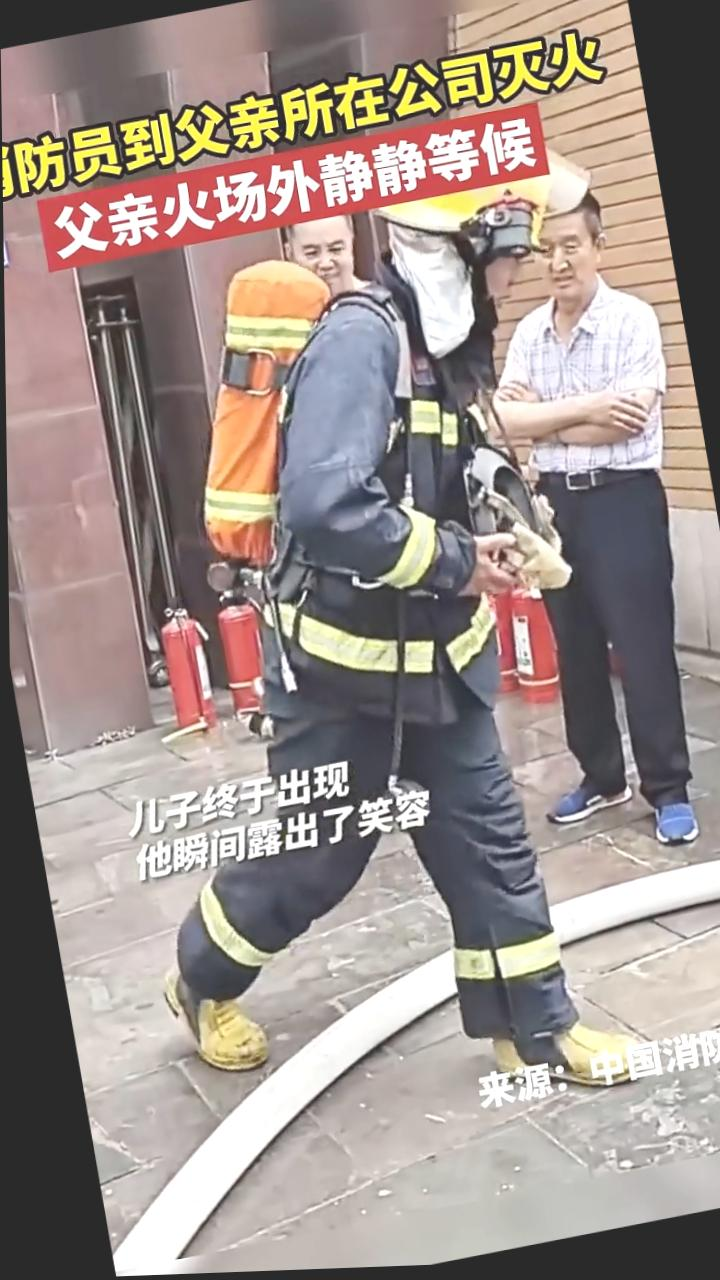FireExtinguisher: (461, 549, 579, 732), (201, 570, 290, 733), (144, 588, 224, 750)
